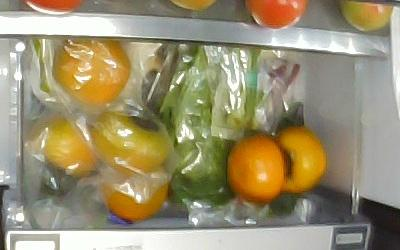persimmon: (269, 126, 328, 194), (227, 136, 286, 203)
persimmon_vinyl: (54, 40, 131, 105), (92, 108, 168, 173), (28, 116, 102, 182), (100, 161, 170, 221)
